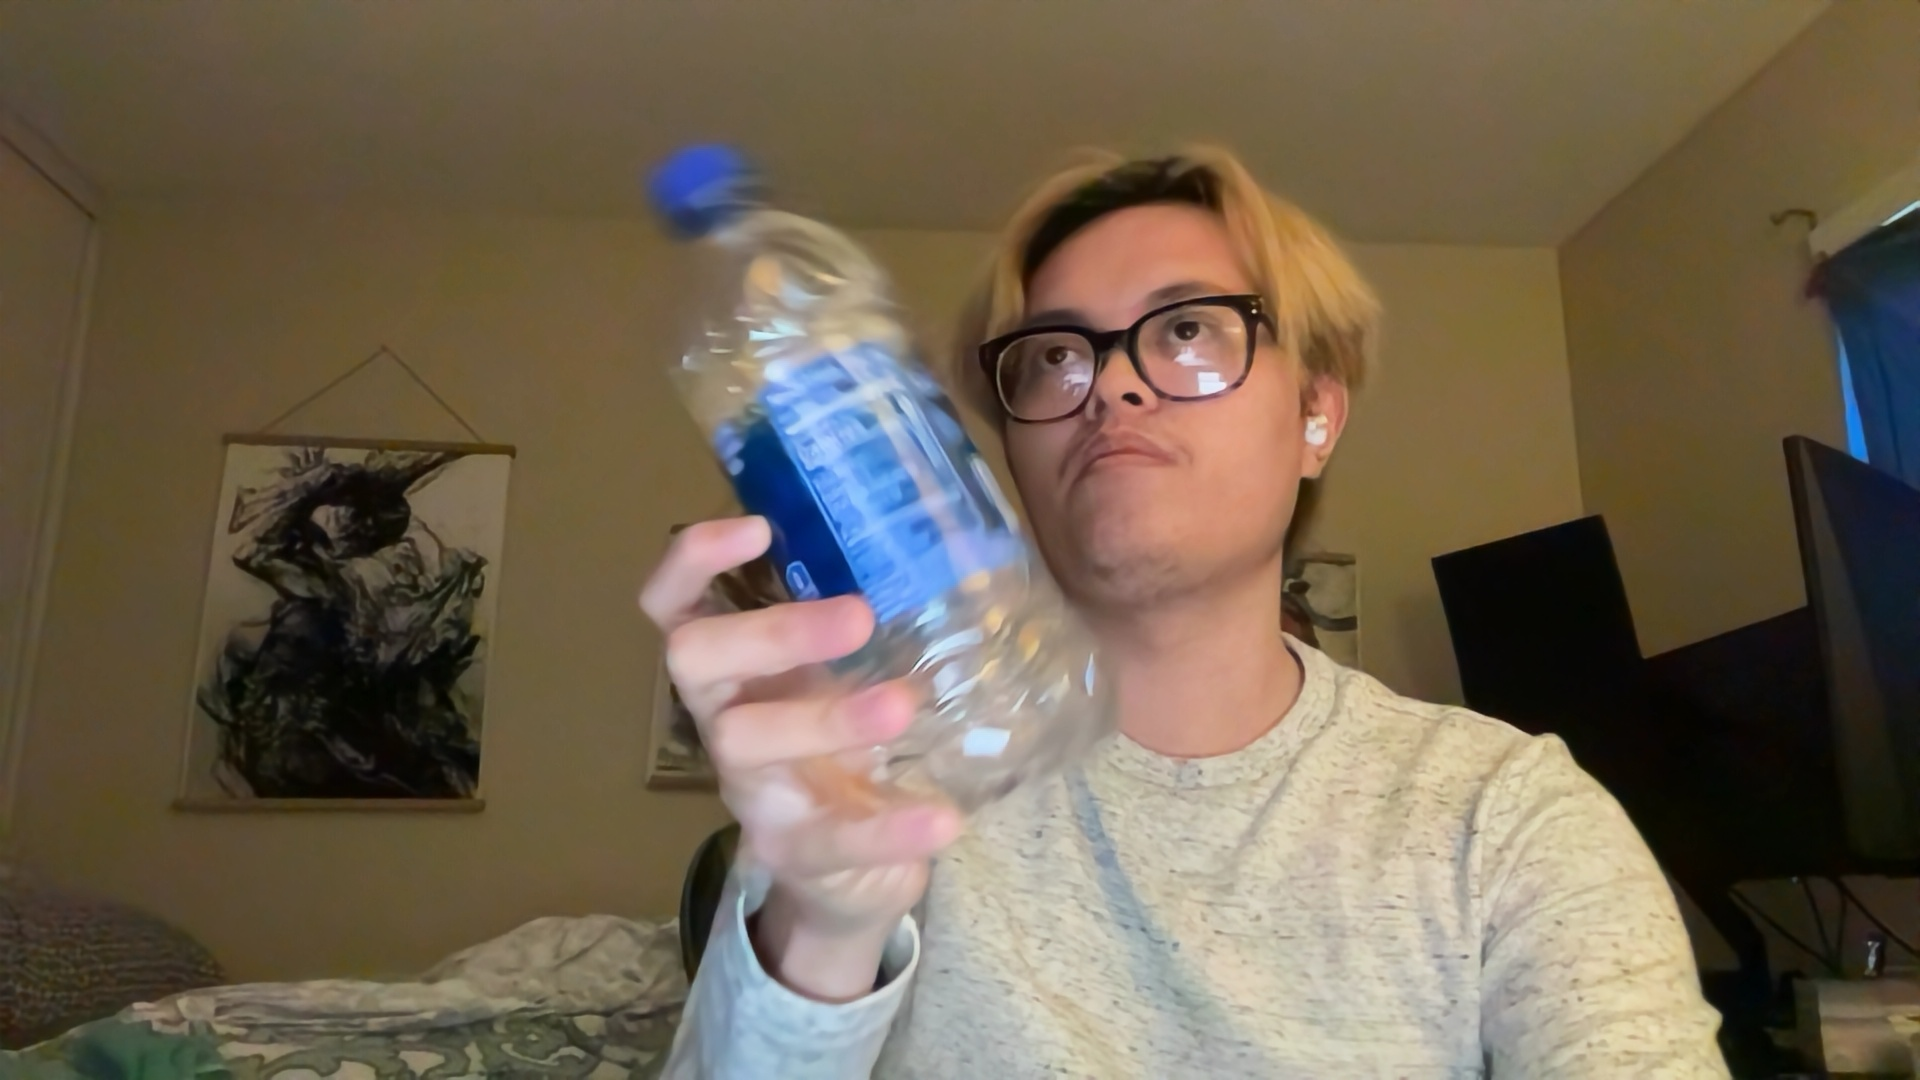bottle: (634, 127, 1114, 796)
